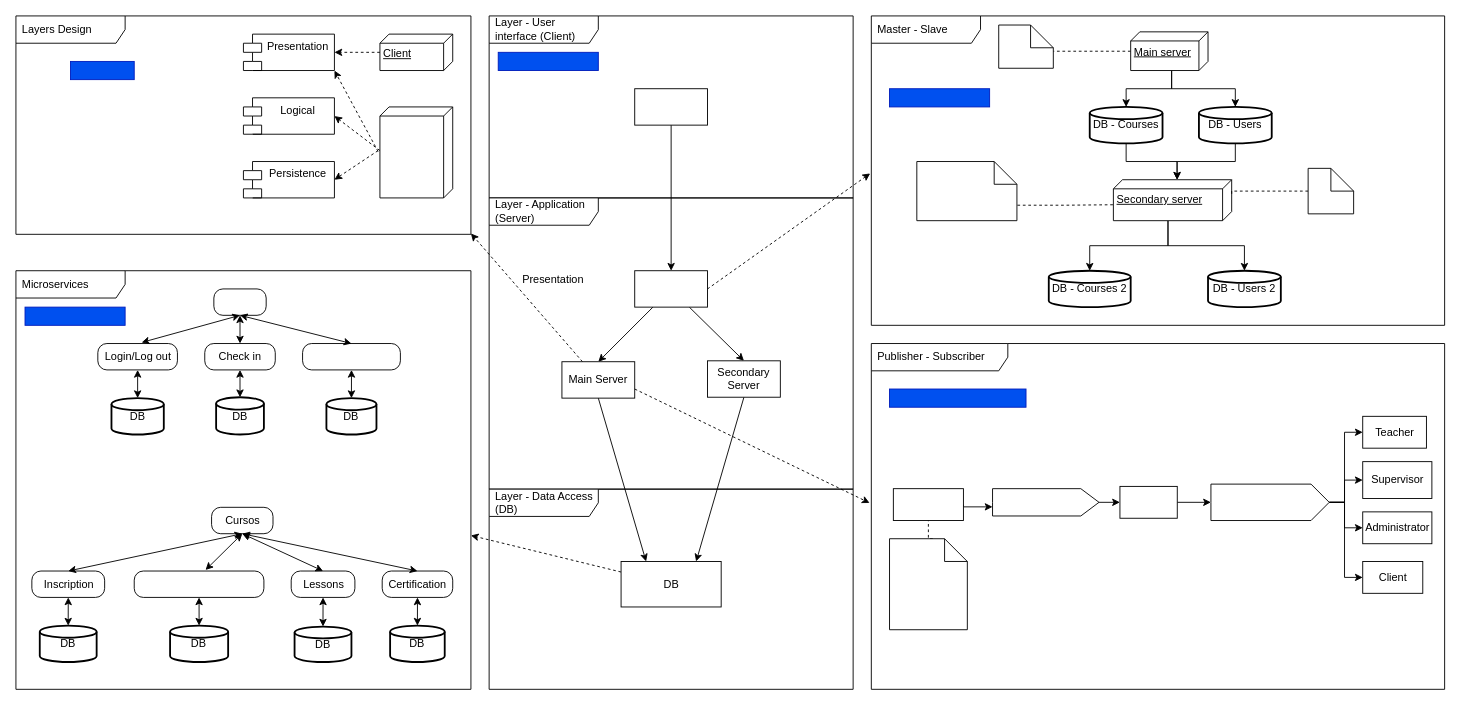
Some shapes in this 1461 by 705 pixel diagram are drawn without their labels. Here are the shapes that lost their labels. From the top down, the centre of each, then its label:
At point 547,61: "2.3 Client-Server".
At point 1025,46: "Master".
At point 102,70: "2.2 Layers".
At point 671,106: "Users".
At point 939,97: "2.4 Master - Slave".
At point 416,152: "Server".
At point 966,191: "Replication and synchronization".
At point 1330,190: "Slave".
At point 239,301: "User".
At point 671,288: "Internet".
At point 74,315: "2.1 Microservices".
At point 351,356: "Pay for a course".
At point 957,397: "2.5 Publiser - Subscriber".
At point 927,504: "Publisher".
At point 1045,502: "Alarm channel".
At point 1148,501: "Alarm".
At point 1269,502: "Triggering alarm.".
At point 198,583: "Add support material".
At point 928,584: "Azure security, Google Cloud, etc.".
